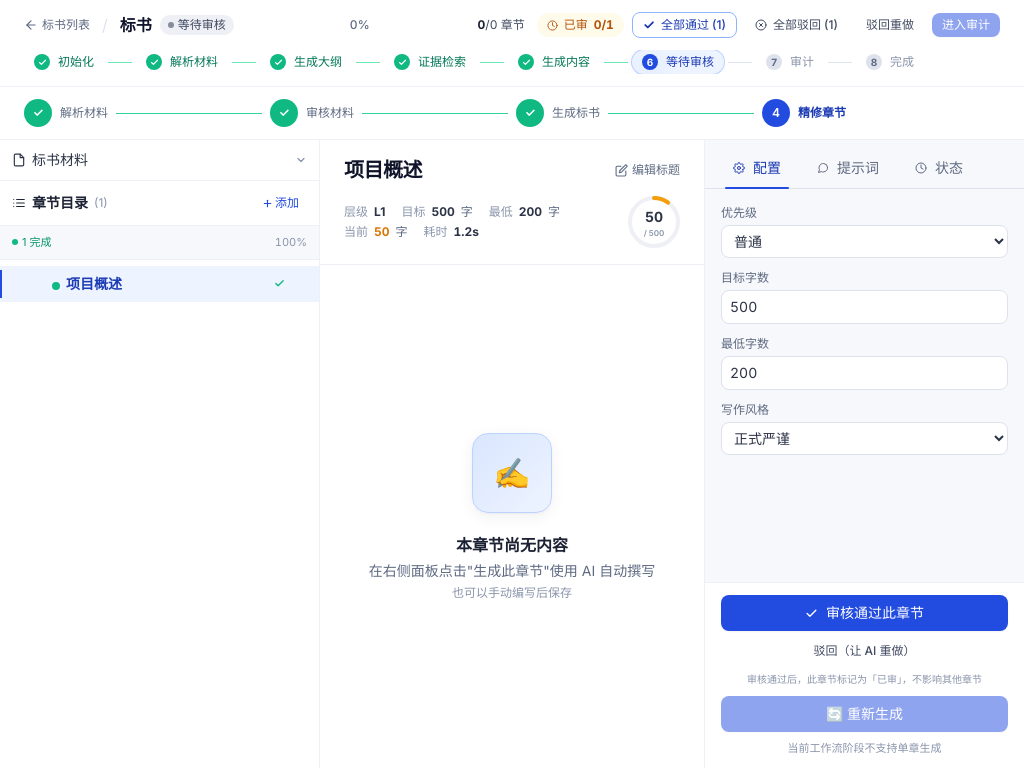
Test: BidWorkspace — RejectionReasonModal › shows the 清空 affordance only when the textarea has content
Click the button "驳回（让 AI 重做）": [864, 651] box [721,639,1008,663]
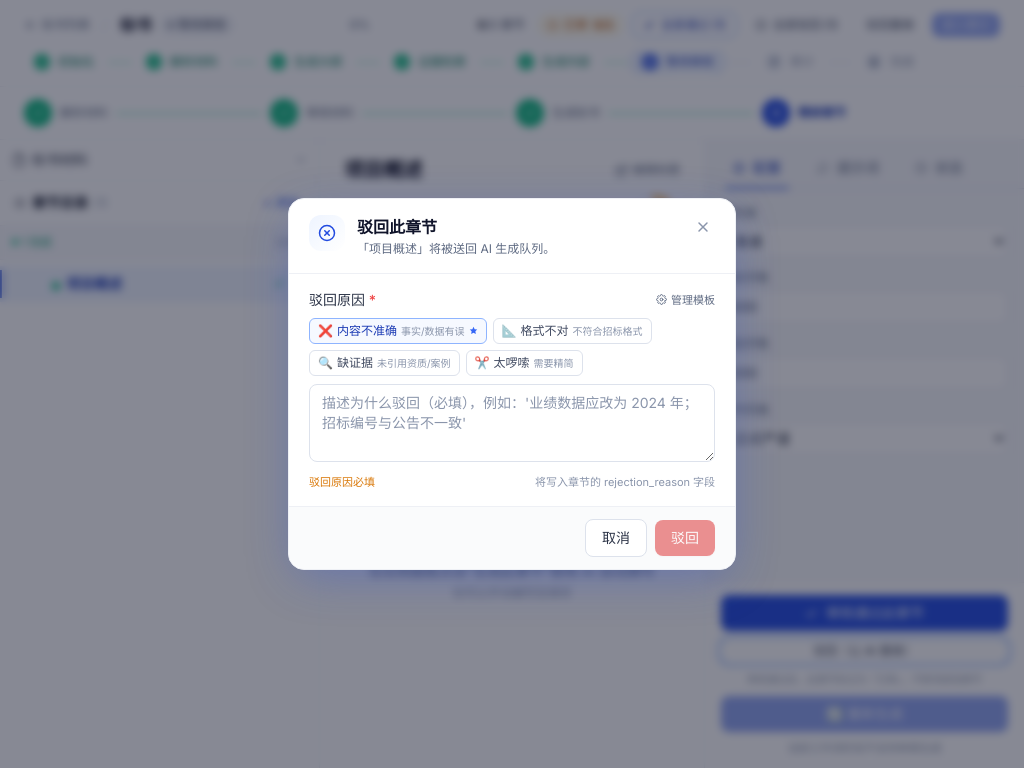
Expected: the button "清空" is not shown
In the text box with placeholder "描述为什么驳回（必填），例如：'业绩数据应改为 2024 年；招标编号与公告不一致'": [512, 423] box [309,384,715,462], type "某条理由"
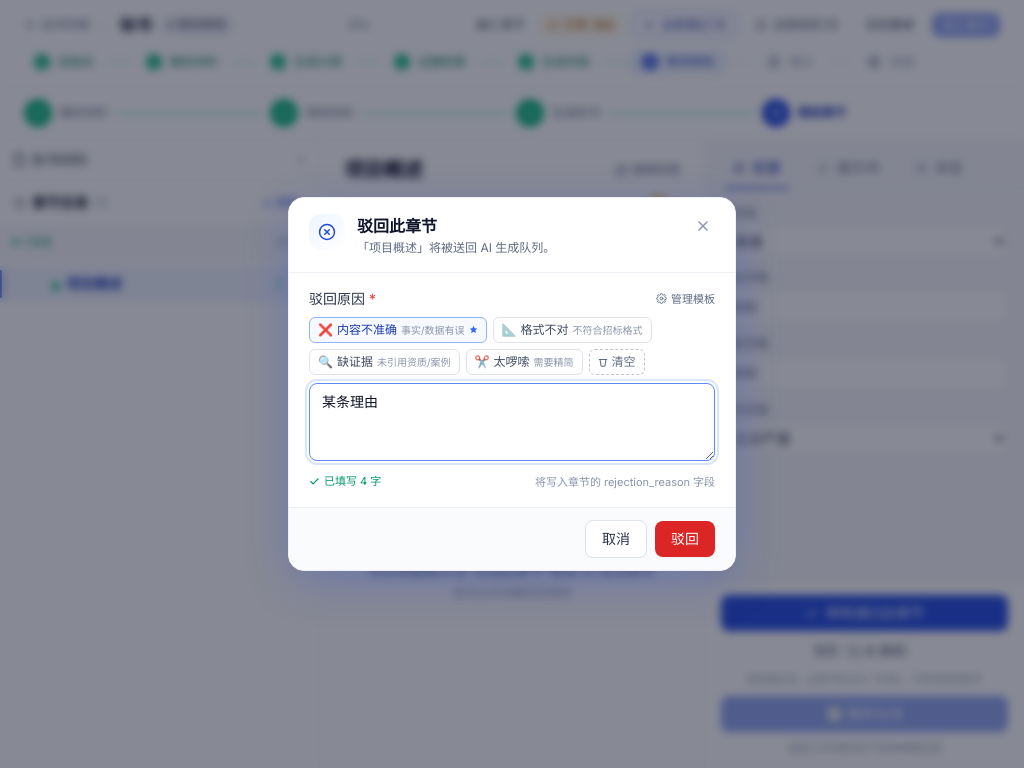
Expected: the button "清空" is shown
Click the button "清空": [617, 362] box [589,349,645,375]
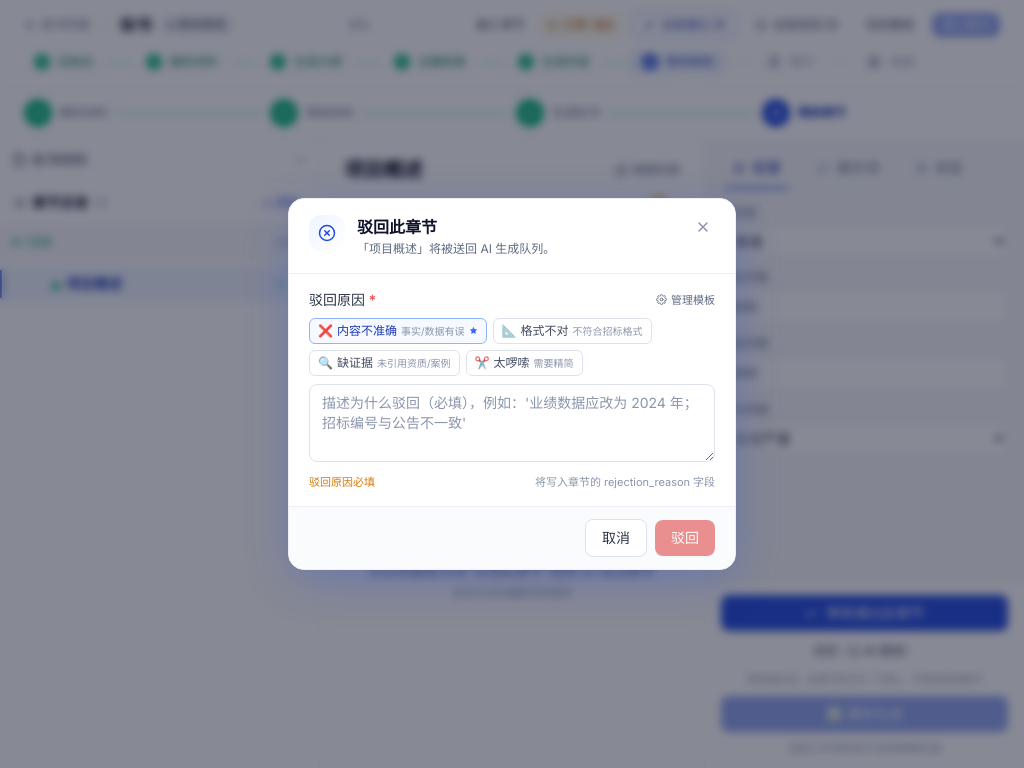
Expected: the text box with placeholder "描述为什么驳回（必填），例如：'业绩数据应改为 2024 年；招标编号与公告不一致'" is empty, [309,384,715,462]
